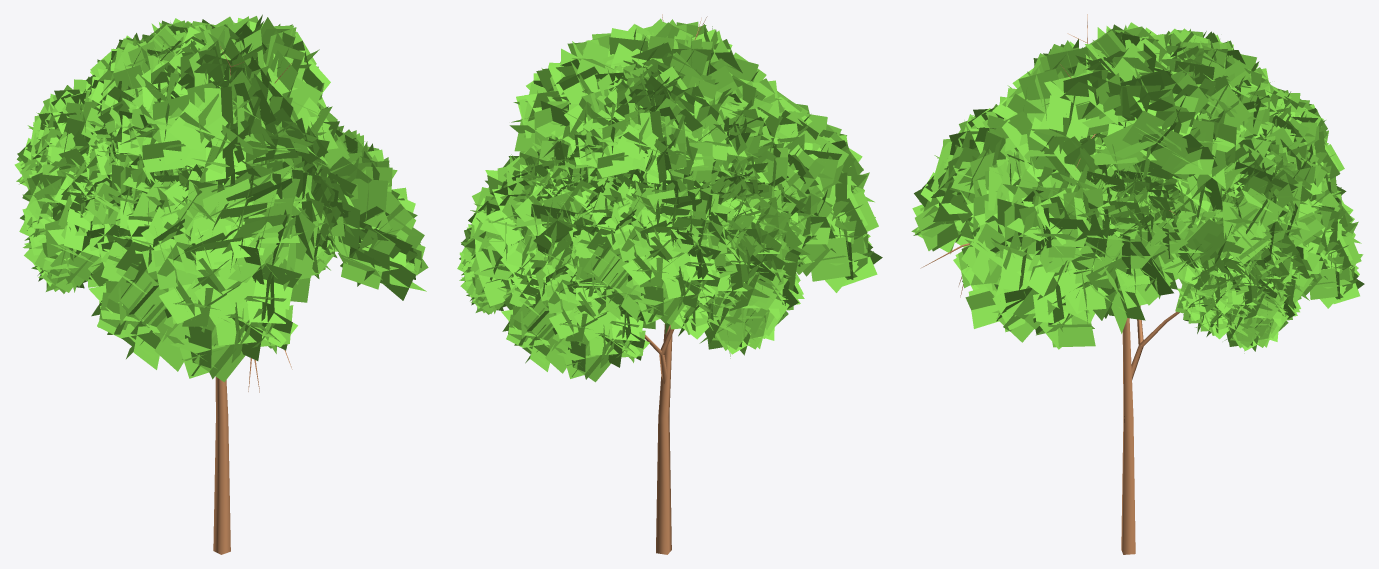
File: tree.fbx
3 renders of one model, left to right at view 1: azimuth 30°, elevation 25°; view 2: azimuth 150°, elevation 25°; view 3: azimuth 270°, elevation 25°, orthographic.
Parts seen in each view (by area): view 1: Leaf.110, Leaf.112, tree.003, Leaf.107; view 2: Leaf.110, Leaf.112, Leaf.107, tree.003, Leaf.111; view 3: Leaf.110, Leaf.107, Leaf.112, Leaf.111, tree.003.
Boxes of the visible parts, bbox=[...] form: Leaf.110: bbox=[19, 14, 428, 382]; Leaf.112: bbox=[14, 18, 264, 250]; tree.003: bbox=[213, 46, 292, 554]; Leaf.107: bbox=[88, 242, 337, 287]; Leaf.110: bbox=[462, 18, 882, 358]; Leaf.112: bbox=[512, 59, 808, 324]; Leaf.107: bbox=[457, 157, 655, 382]; tree.003: bbox=[644, 14, 707, 554]; Leaf.111: bbox=[531, 109, 803, 315]; Leaf.110: bbox=[911, 22, 1340, 349]; Leaf.107: bbox=[1104, 134, 1364, 353]; Leaf.112: bbox=[1090, 28, 1346, 227]; Leaf.111: bbox=[1064, 101, 1280, 301]; tree.003: bbox=[920, 14, 1190, 554].
Bounding box in the file's own units: 775 × 1187 × 926.
